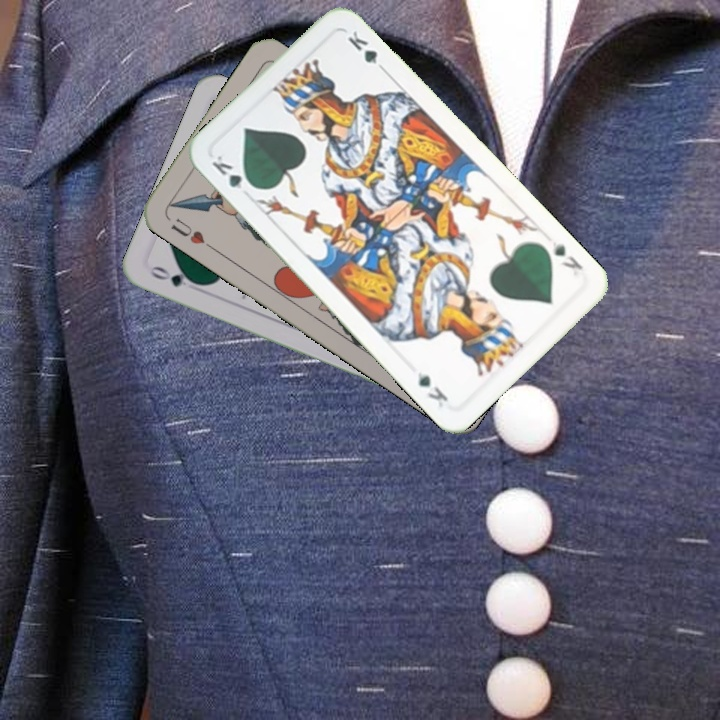GK: (207, 151, 258, 193), (546, 237, 586, 273)
GO: (146, 262, 203, 290)
HU: (166, 213, 216, 252)
